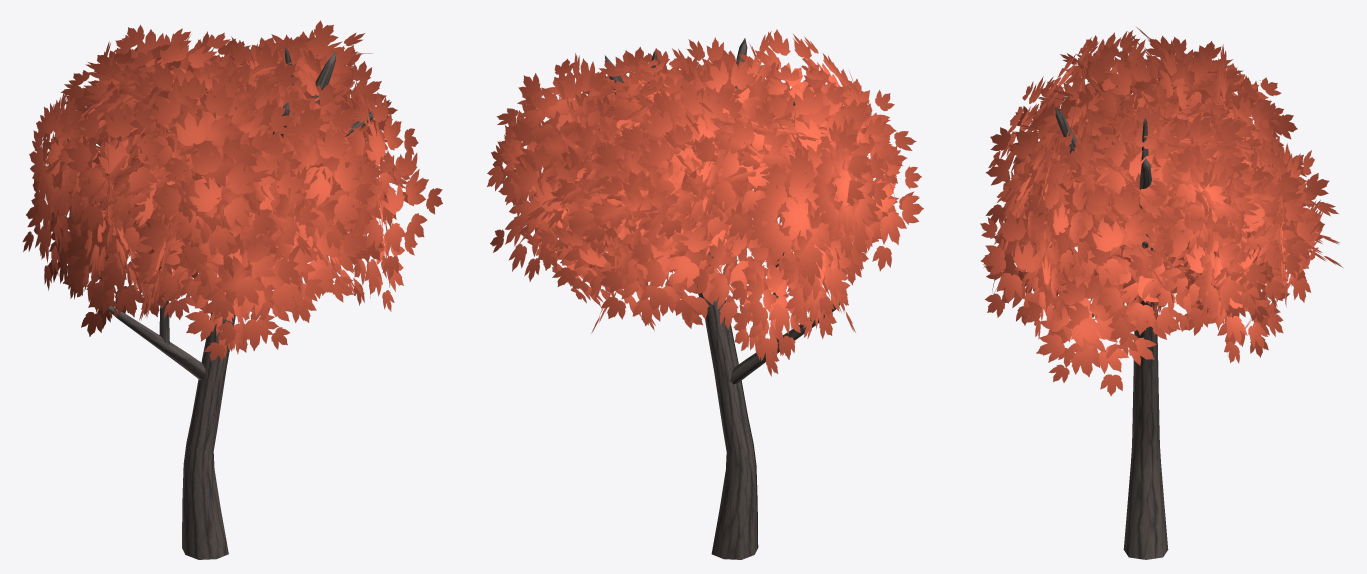
The model's file is garden_maple.glb.
3 views of the same model, side by side, from view 1: azimuth 30°, elevation 25°; view 2: azimuth 150°, elevation 25°; view 3: azimuth 270°, elevation 25° (orthographic). The views are drawn at different scales.
Visible parts, largest first — view 1: MapleTree_4; view 2: MapleTree_4; view 3: MapleTree_4.
Part boxes in pixels (left/top/right/bottom): MapleTree_4: left=22, top=20, right=442, bottom=559; MapleTree_4: left=487, top=29, right=923, bottom=559; MapleTree_4: left=980, top=27, right=1342, bottom=559.
Bounding box in the file's own units: 3 × 3.89 × 2.64.
Materials: 2 (2 with a texture image).
